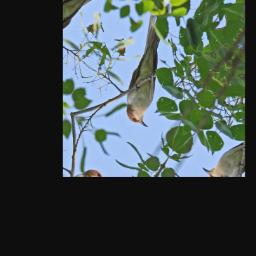Cuckoo: (96, 0, 210, 132)
